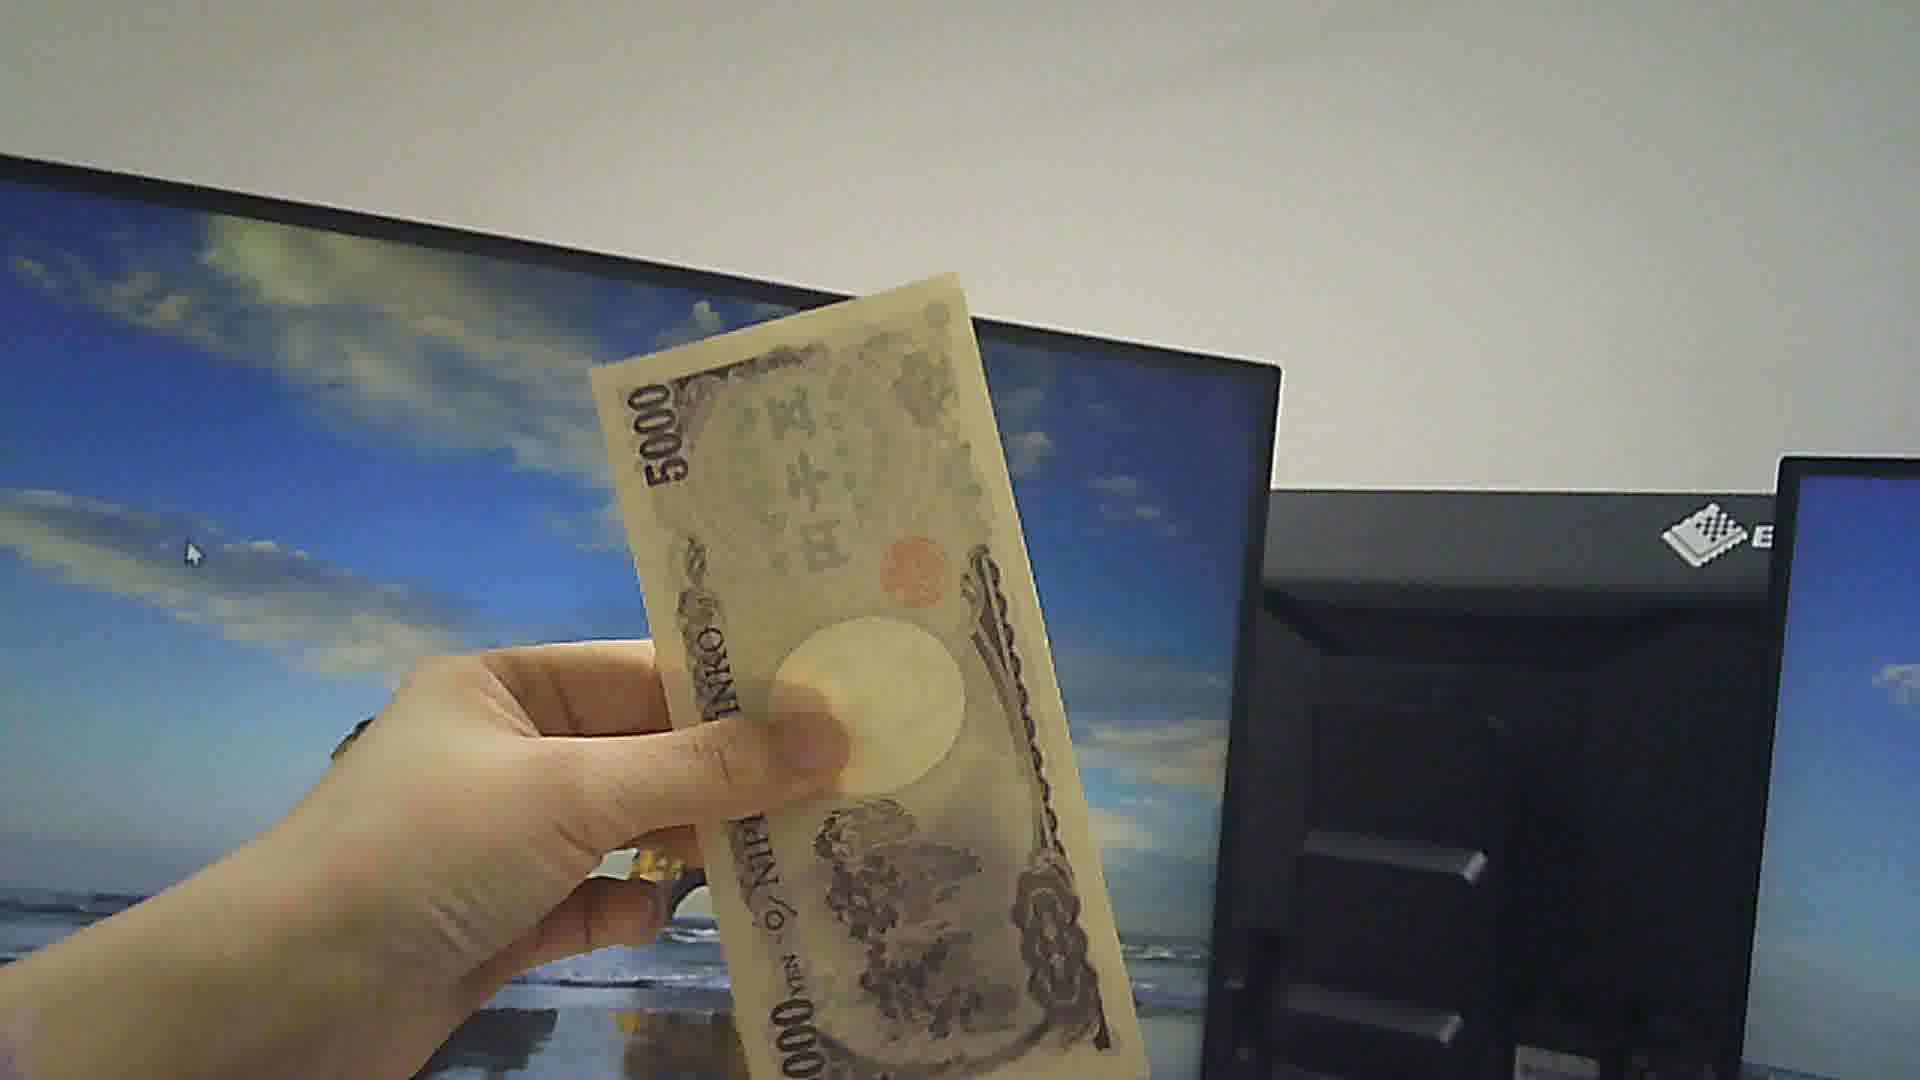5,000 Yen: (574, 262, 1178, 1079)
